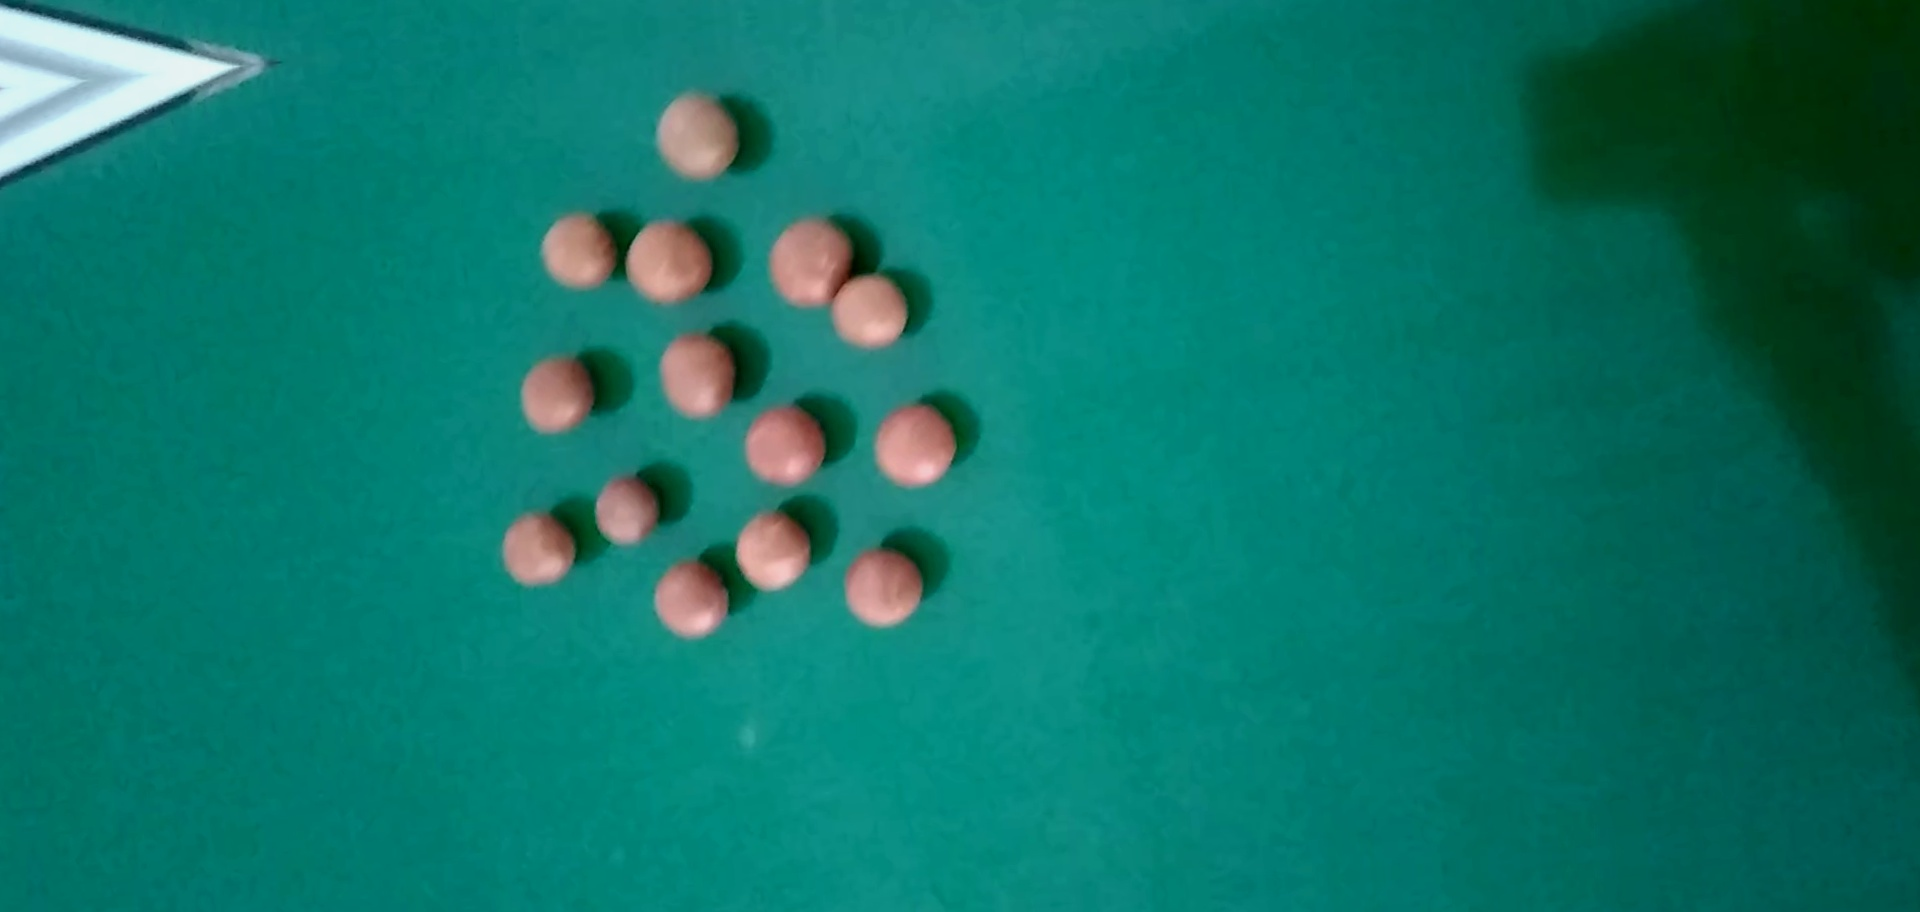mac: (649, 86, 746, 186), (621, 217, 718, 310), (765, 213, 858, 310), (868, 404, 960, 492), (538, 206, 622, 300), (842, 539, 927, 632), (743, 404, 829, 490), (731, 508, 816, 595), (656, 332, 738, 421), (496, 509, 580, 591), (649, 557, 730, 641), (518, 353, 596, 436), (829, 273, 909, 351), (591, 473, 665, 547)
